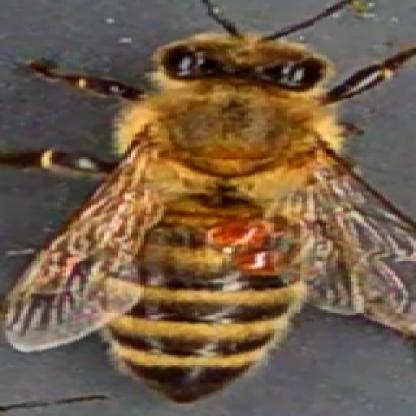bee: (105, 17, 329, 416)
vaoora: (205, 219, 266, 250), (241, 250, 284, 275)
